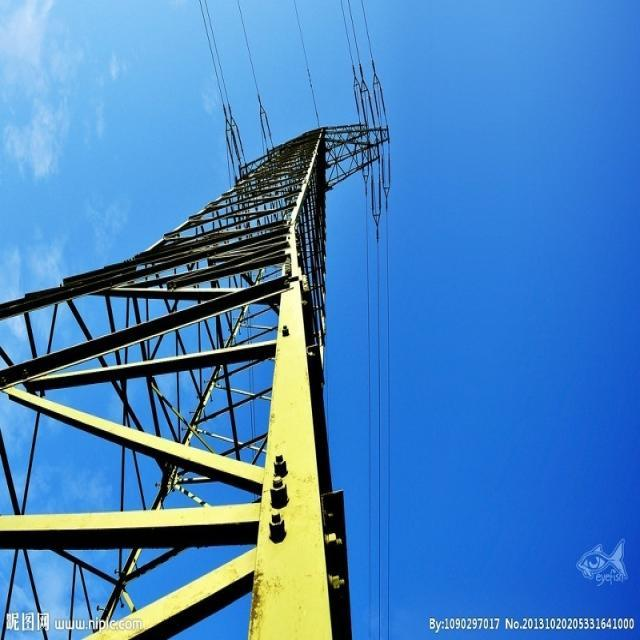non-critical vegetation: (4, 101, 401, 634)
